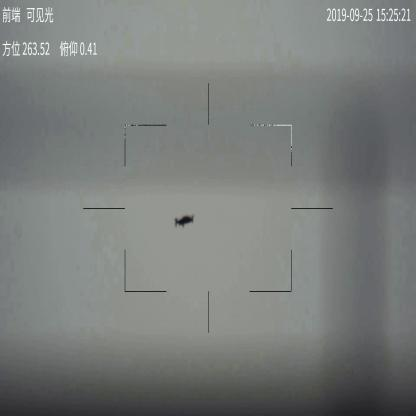uav: (172, 213, 195, 228)
